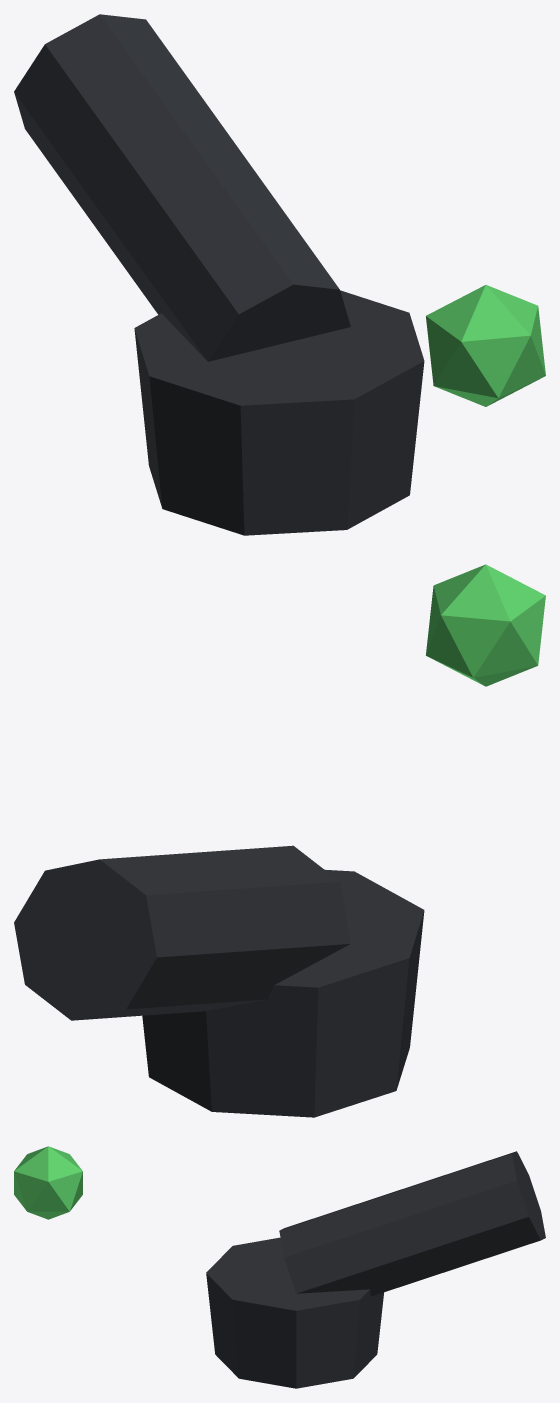
File: SpitterCannon.obj
3 views of the same model, one above another, from view 1: azimuth 30°, elevation 25°; view 2: azimuth 150°, elevation 25°; view 3: azimuth 270°, elevation 25° (orthographic). The views are drawn at different scales.
Visible parts, largest first — view 1: SpitterCannon; view 2: SpitterCannon; view 3: SpitterCannon.
Part boxes in pixels (x1,y1,x2,y2): SpitterCannon: [14, 14, 545, 535]; SpitterCannon: [14, 564, 545, 1117]; SpitterCannon: [14, 1146, 545, 1388].
Bounding box in the file's own units: 0.4 × 0.51 × 1.18.
